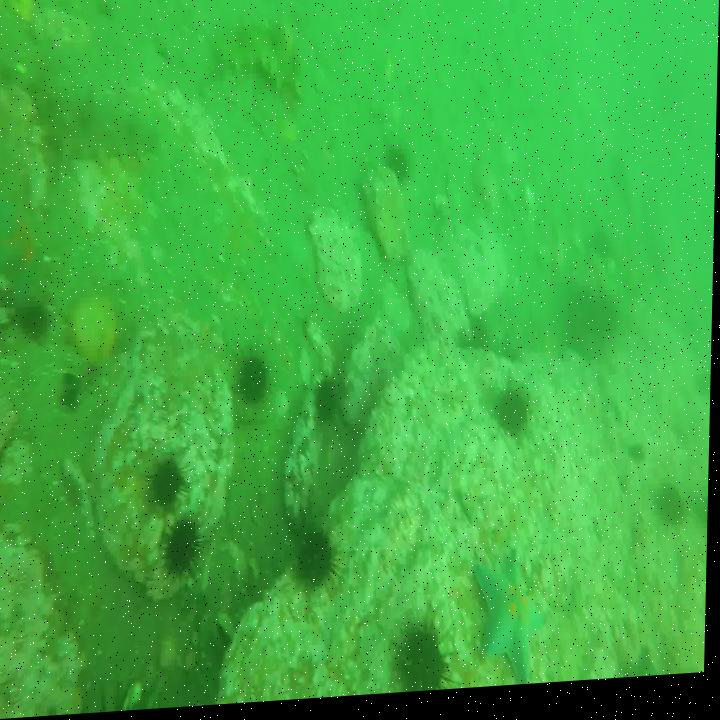echinus: (399, 625, 451, 698), (297, 540, 341, 599), (165, 521, 206, 579), (151, 458, 192, 514), (497, 387, 532, 447), (237, 358, 273, 412), (659, 486, 691, 539), (21, 297, 51, 344), (319, 383, 347, 427), (388, 145, 413, 189)
holothurian: (47, 89, 161, 165), (221, 17, 305, 103)
starfish: (476, 554, 549, 694)
